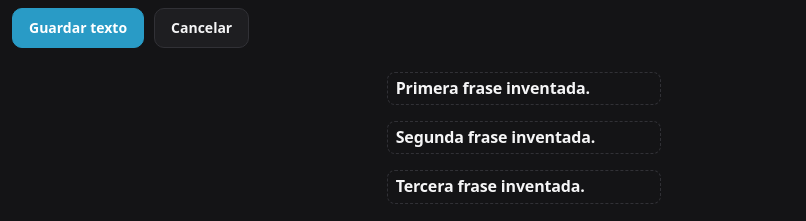
Test: EditorTextos › mientras espera y pregunta, lo escrito sigue a la vista, seleccionable y sin poder seguir con ello
Later steps or results of the test are not shown.
Replace the text in the text box named "Frase 1" with "Texto que no se pierde.": (524, 89) [387,72,661,105]
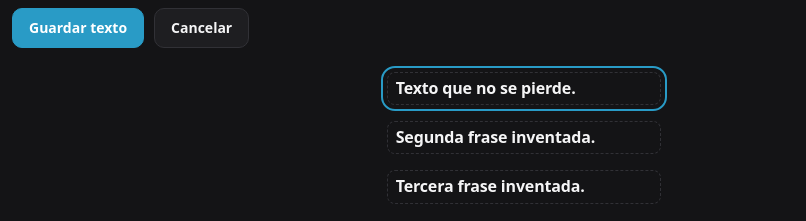
Click the button "Guardar texto": (78, 28) [12,8,144,48]
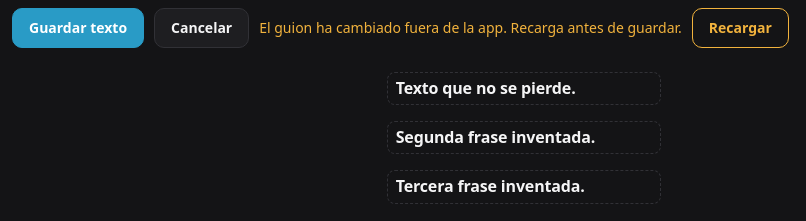
Result: the text "El guion ha cambiado fuera de la app. Recarga antes de guardar." is shown at [259,18,682,37]
Click the button "Recargar": (740, 28) [692,8,789,48]
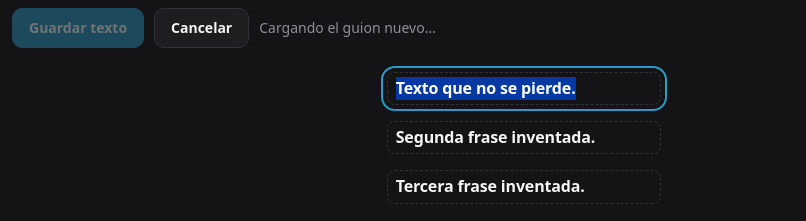
Expected: the text box named "Frase 1" is enabled, [387,72,661,105]
Result: the text box named "Frase 1" has attribute readonly at [387,72,661,105]
